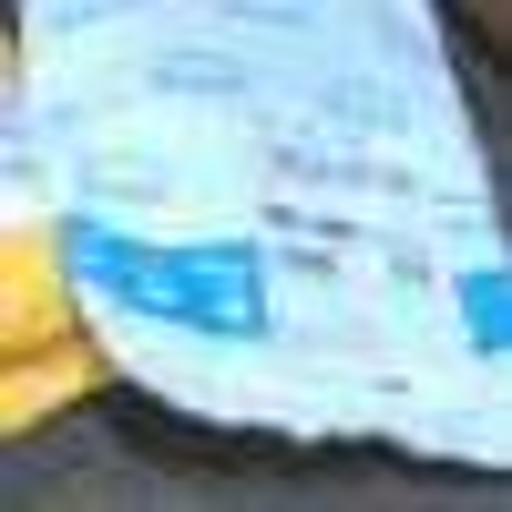Amazon: (66, 0, 461, 361)
